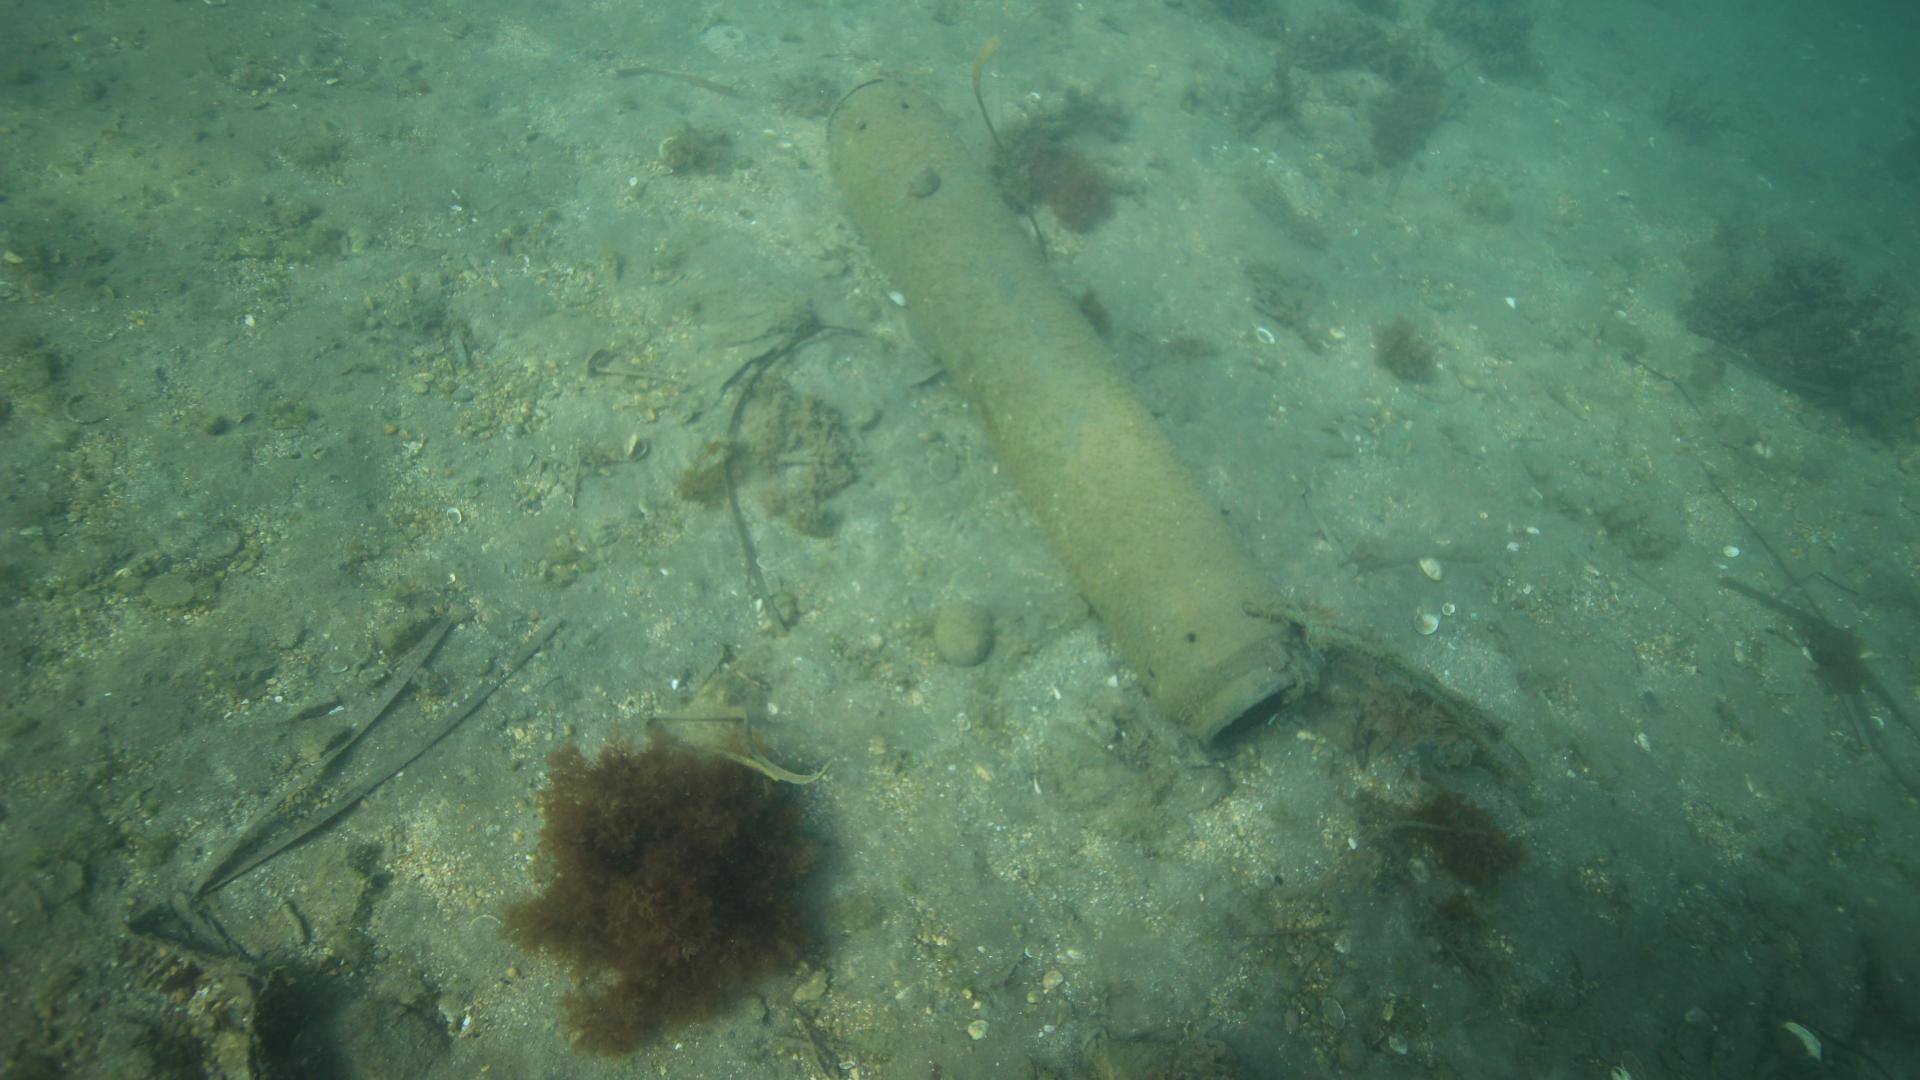bundle of ropes: (1244, 595, 1538, 783)
eel fish trap: (822, 70, 1302, 758)
